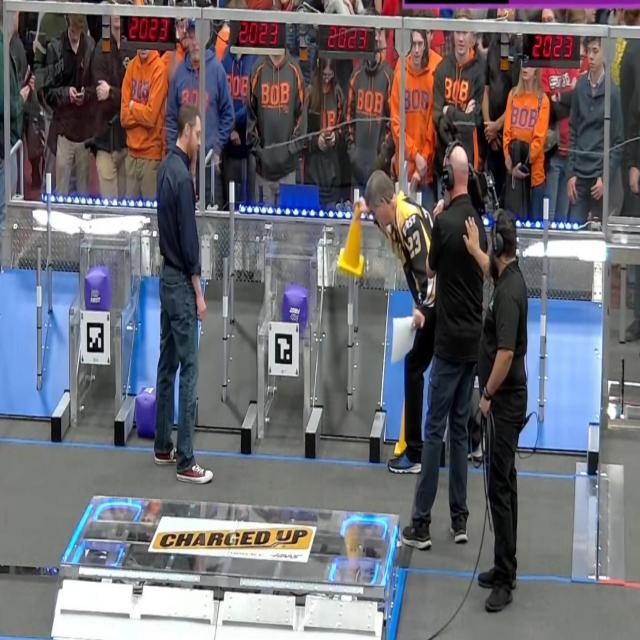frc_cone: (338, 205, 368, 276), (393, 390, 407, 454)
frc_cube: (135, 387, 157, 440), (283, 287, 310, 328), (85, 268, 111, 310)
